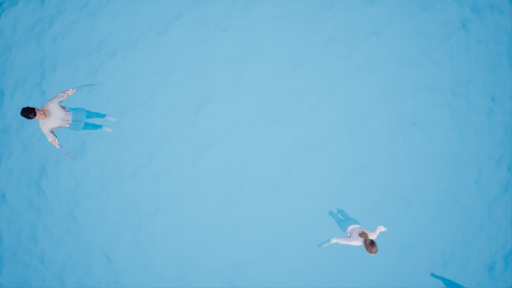person: (17, 84, 124, 158), (315, 206, 396, 255)
